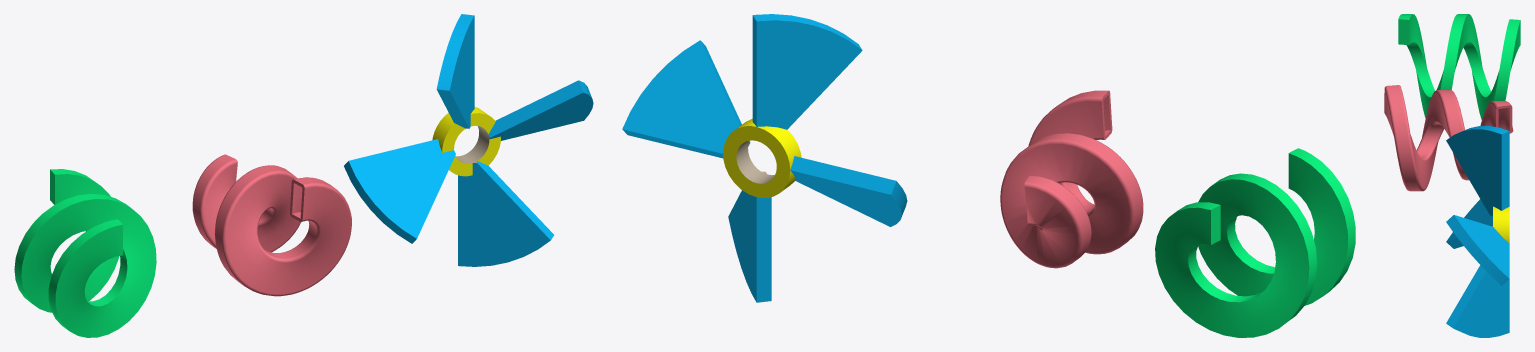
The model's file is unitSpiral.glb.
The picture shows the model from 3 angles, left to right: view 1: azimuth 30°, elevation 25°; view 2: azimuth 150°, elevation 25°; view 3: azimuth 270°, elevation 25°; orthographic projection. The views are drawn at different scales.
Visible parts, largest first — view 1: COMPOUND; view 2: COMPOUND; view 3: COMPOUND.
Part boxes in pixels (x1,y1,x2,y2): COMPOUND: (14,14,593,337); COMPOUND: (622,14,1355,337); COMPOUND: (1384,14,1520,337).
Size of the model in its own units: 0.0099 by 0.004 by 0.00244.
